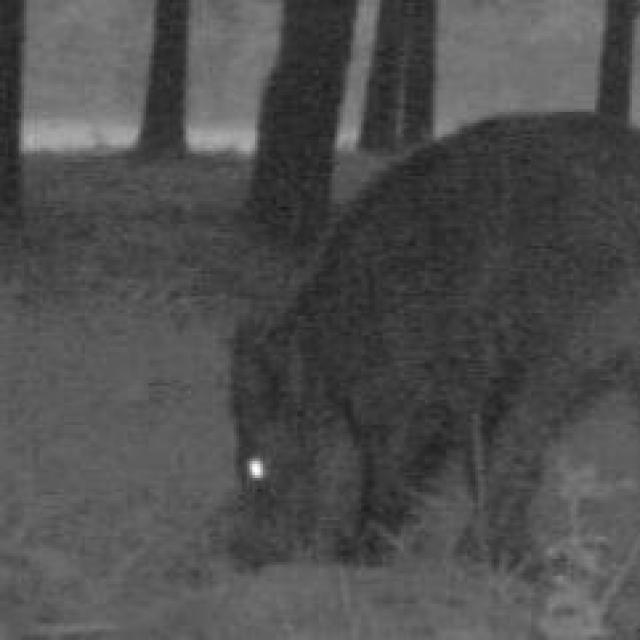pig: (219, 74, 640, 583)
